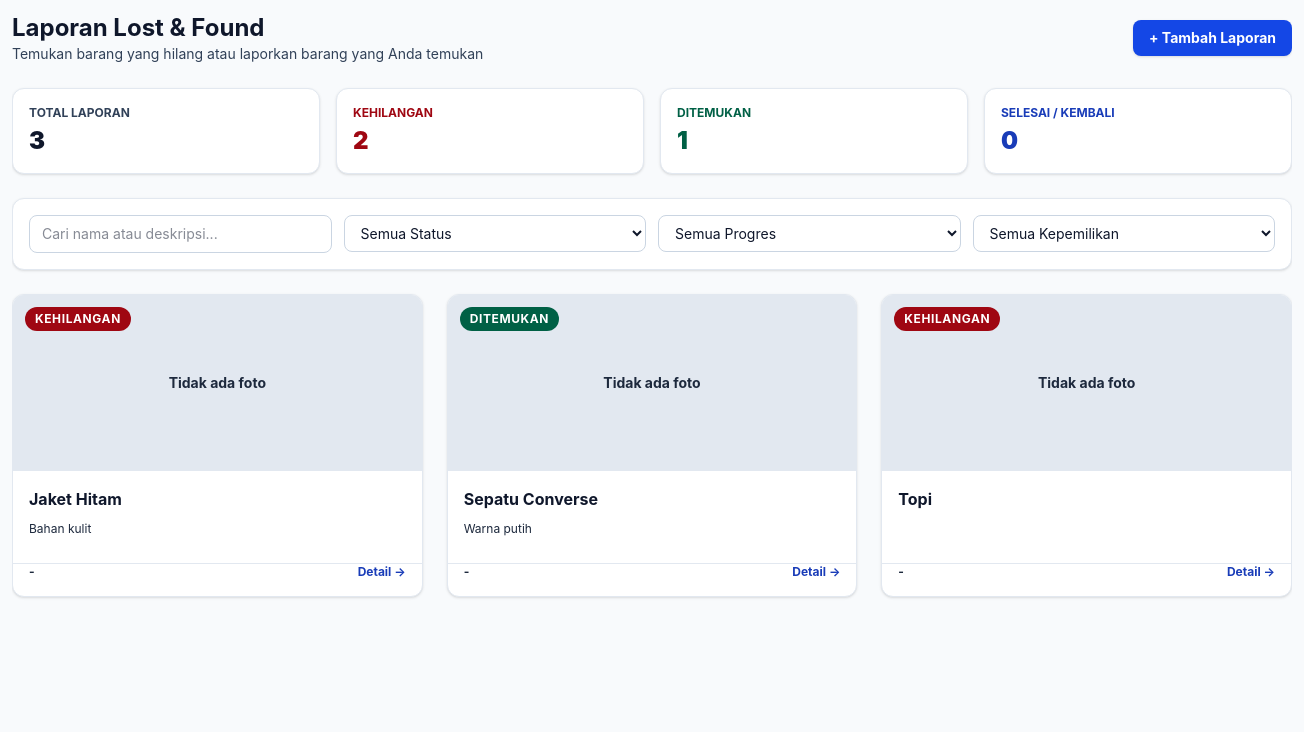
HomePage › should filter items by search query
// Search matching description
Type "kulit" into the field with placeholder "Cari nama atau deskripsi...".
click(180, 234); type("kulit")  # box x1=29 y1=215 x2=332 y2=253
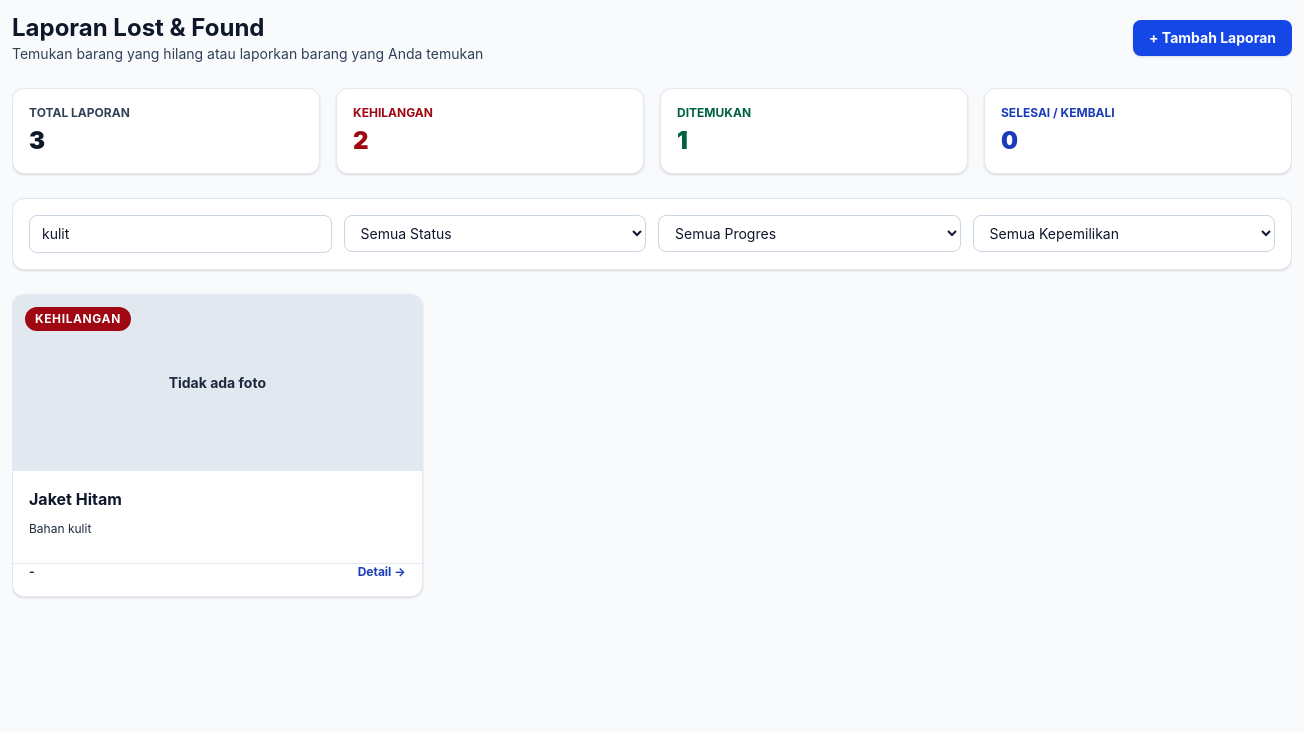
Expected: the heading "Jaket Hitam" is shown, x1=29 y1=489 x2=122 y2=509
Expected: the heading "Sepatu Converse" is gone
// Search matching title
Replace the text in the field with placeholder "Cari nama atau deskripsi..." with "Sepatu" at (180, 234), box x1=29 y1=215 x2=332 y2=253
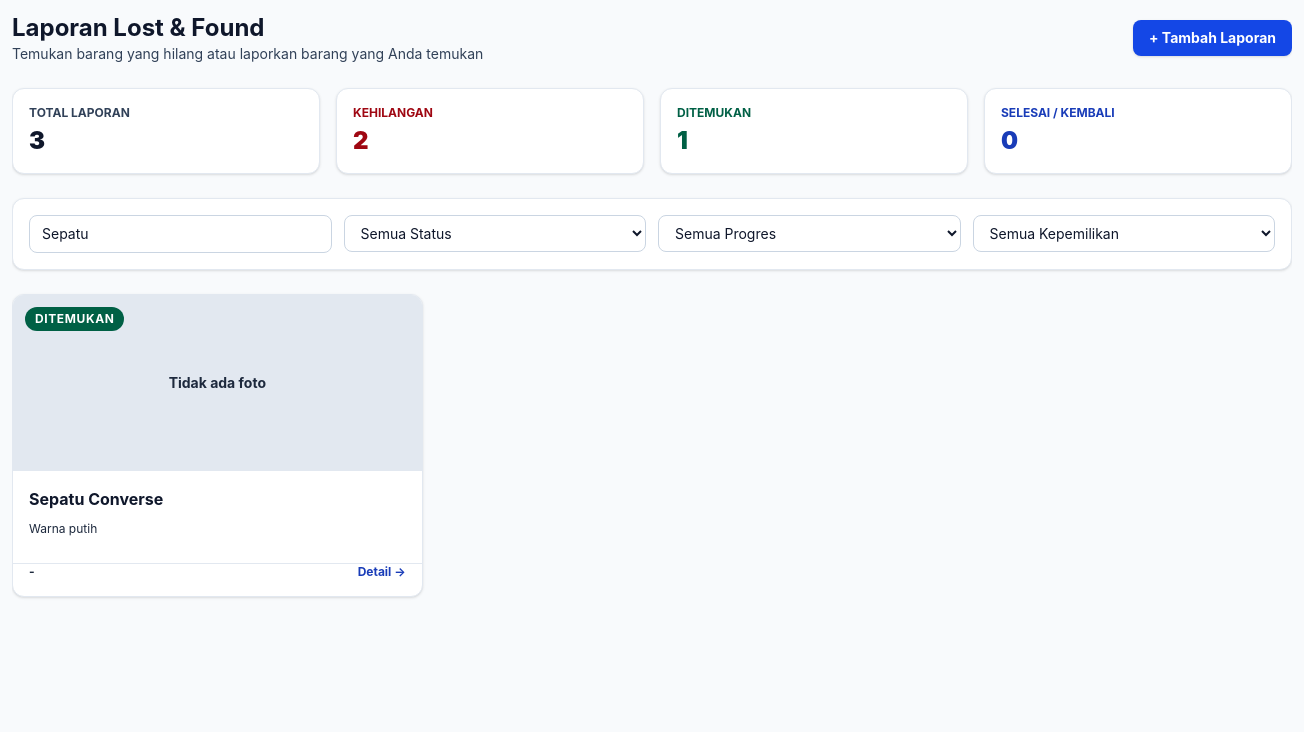
Expected: the heading "Jaket Hitam" is gone
Expected: the heading "Sepatu Converse" is shown, x1=29 y1=489 x2=163 y2=509
// Search matching nothing (tests false branch of title and description, plus null description fallback)
Replace the text in the field with placeholder "Cari nama atau deskripsi..." with "xyz-not-found" at (180, 234), box x1=29 y1=215 x2=332 y2=253
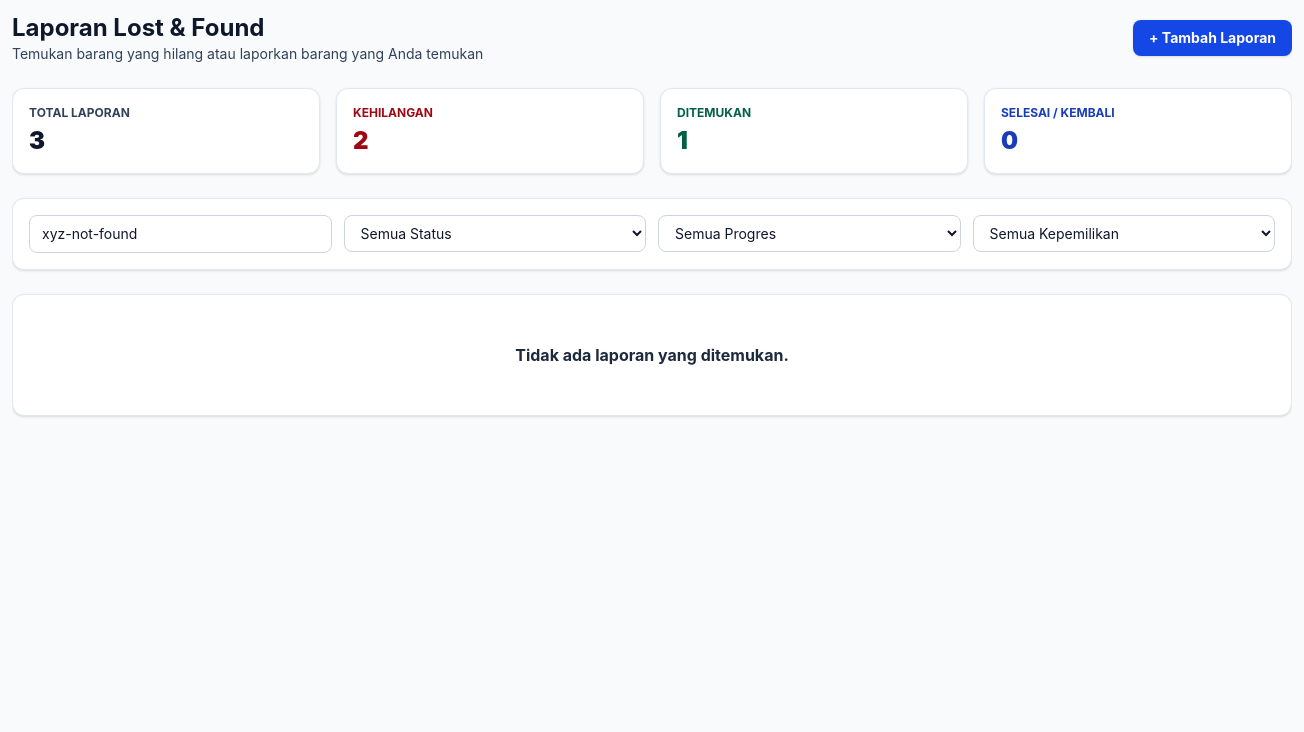
Expected: the heading "Jaket Hitam" is not shown
Expected: the heading "Sepatu Converse" is gone
